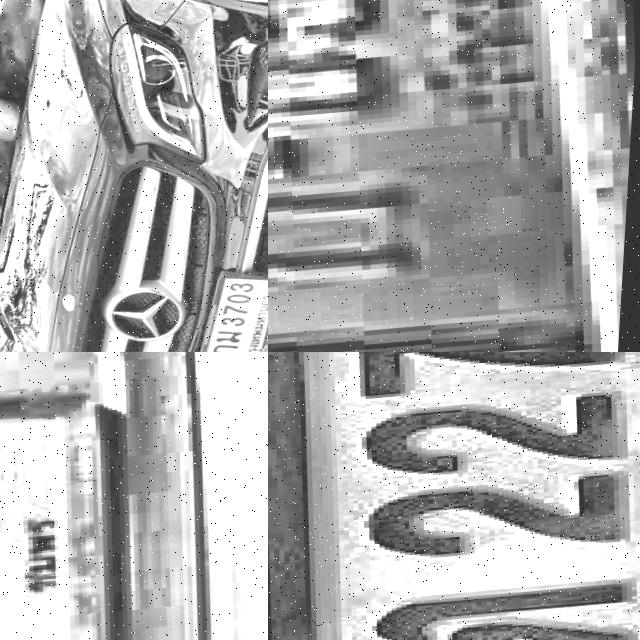license-plate: (268, 0, 640, 352), (268, 352, 640, 640), (0, 352, 185, 640), (187, 264, 268, 352)
